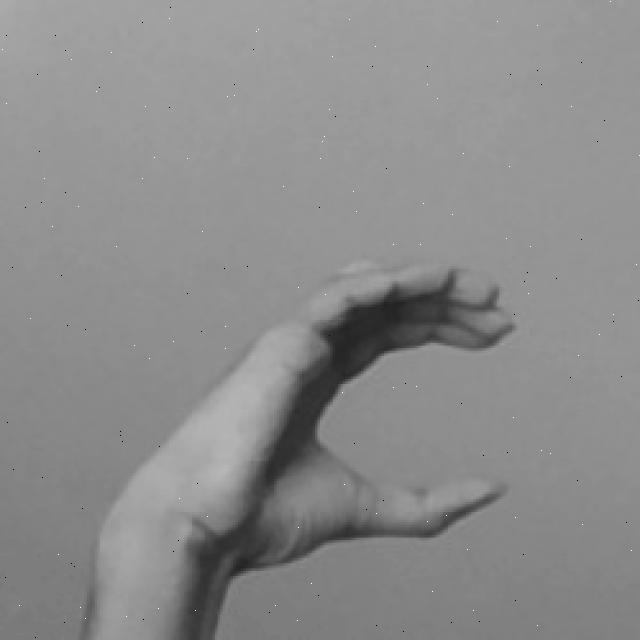C: (86, 256, 522, 640)
